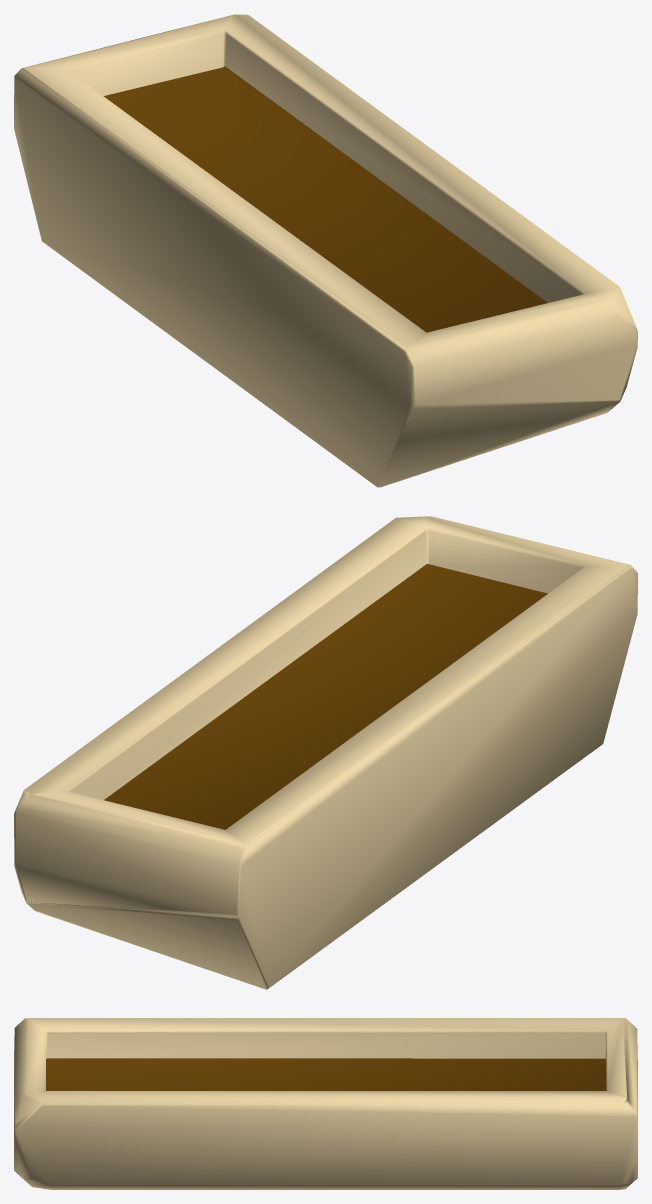
File: Module_Window_Planter_Long_01_LOD01.fbx
The picture shows the model from 3 angles, top to bottom: view 1: azimuth 30°, elevation 25°; view 2: azimuth 150°, elevation 25°; view 3: azimuth 270°, elevation 25°; orthographic projection. The views are drawn at different scales.
Parts seen in each view (by area): view 1: Module_Window_Planter_Long_01_LOD01_Geometry; view 2: Module_Window_Planter_Long_01_LOD01_Geometry; view 3: Module_Window_Planter_Long_01_LOD01_Geometry.
Part boxes in pixels (left/top/right/bottom): Module_Window_Planter_Long_01_LOD01_Geometry: left=14, top=14, right=637, bottom=487; Module_Window_Planter_Long_01_LOD01_Geometry: left=14, top=516, right=637, bottom=989; Module_Window_Planter_Long_01_LOD01_Geometry: left=14, top=1018, right=637, bottom=1189.
Size of the model in its own units: 0.6561 by 0.4419 by 2.
